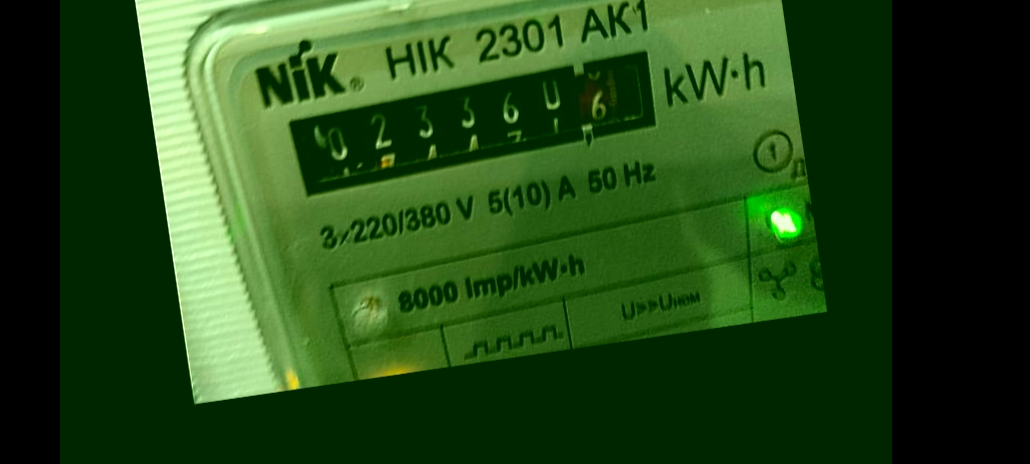0: (322, 122, 353, 167), (537, 75, 565, 115)
2: (364, 109, 396, 153)
3: (411, 101, 437, 144), (452, 93, 479, 134)
6: (493, 86, 525, 131), (586, 88, 612, 126)
screen: (263, 37, 676, 211)
